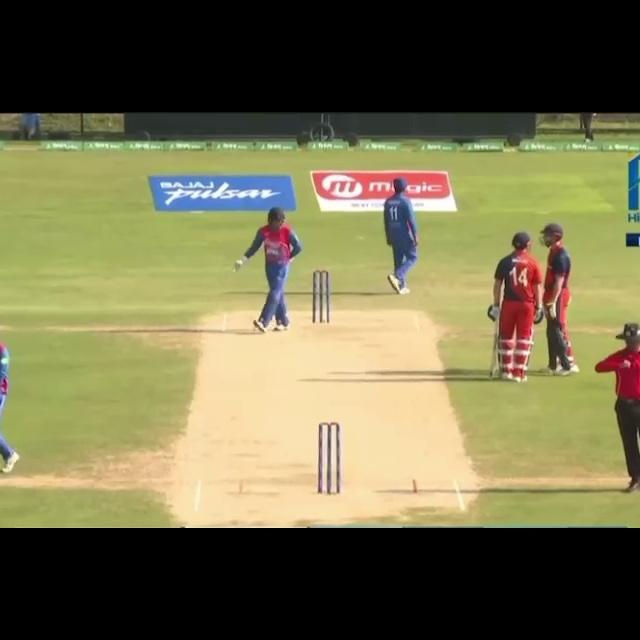umpire: (593, 319, 640, 495)
